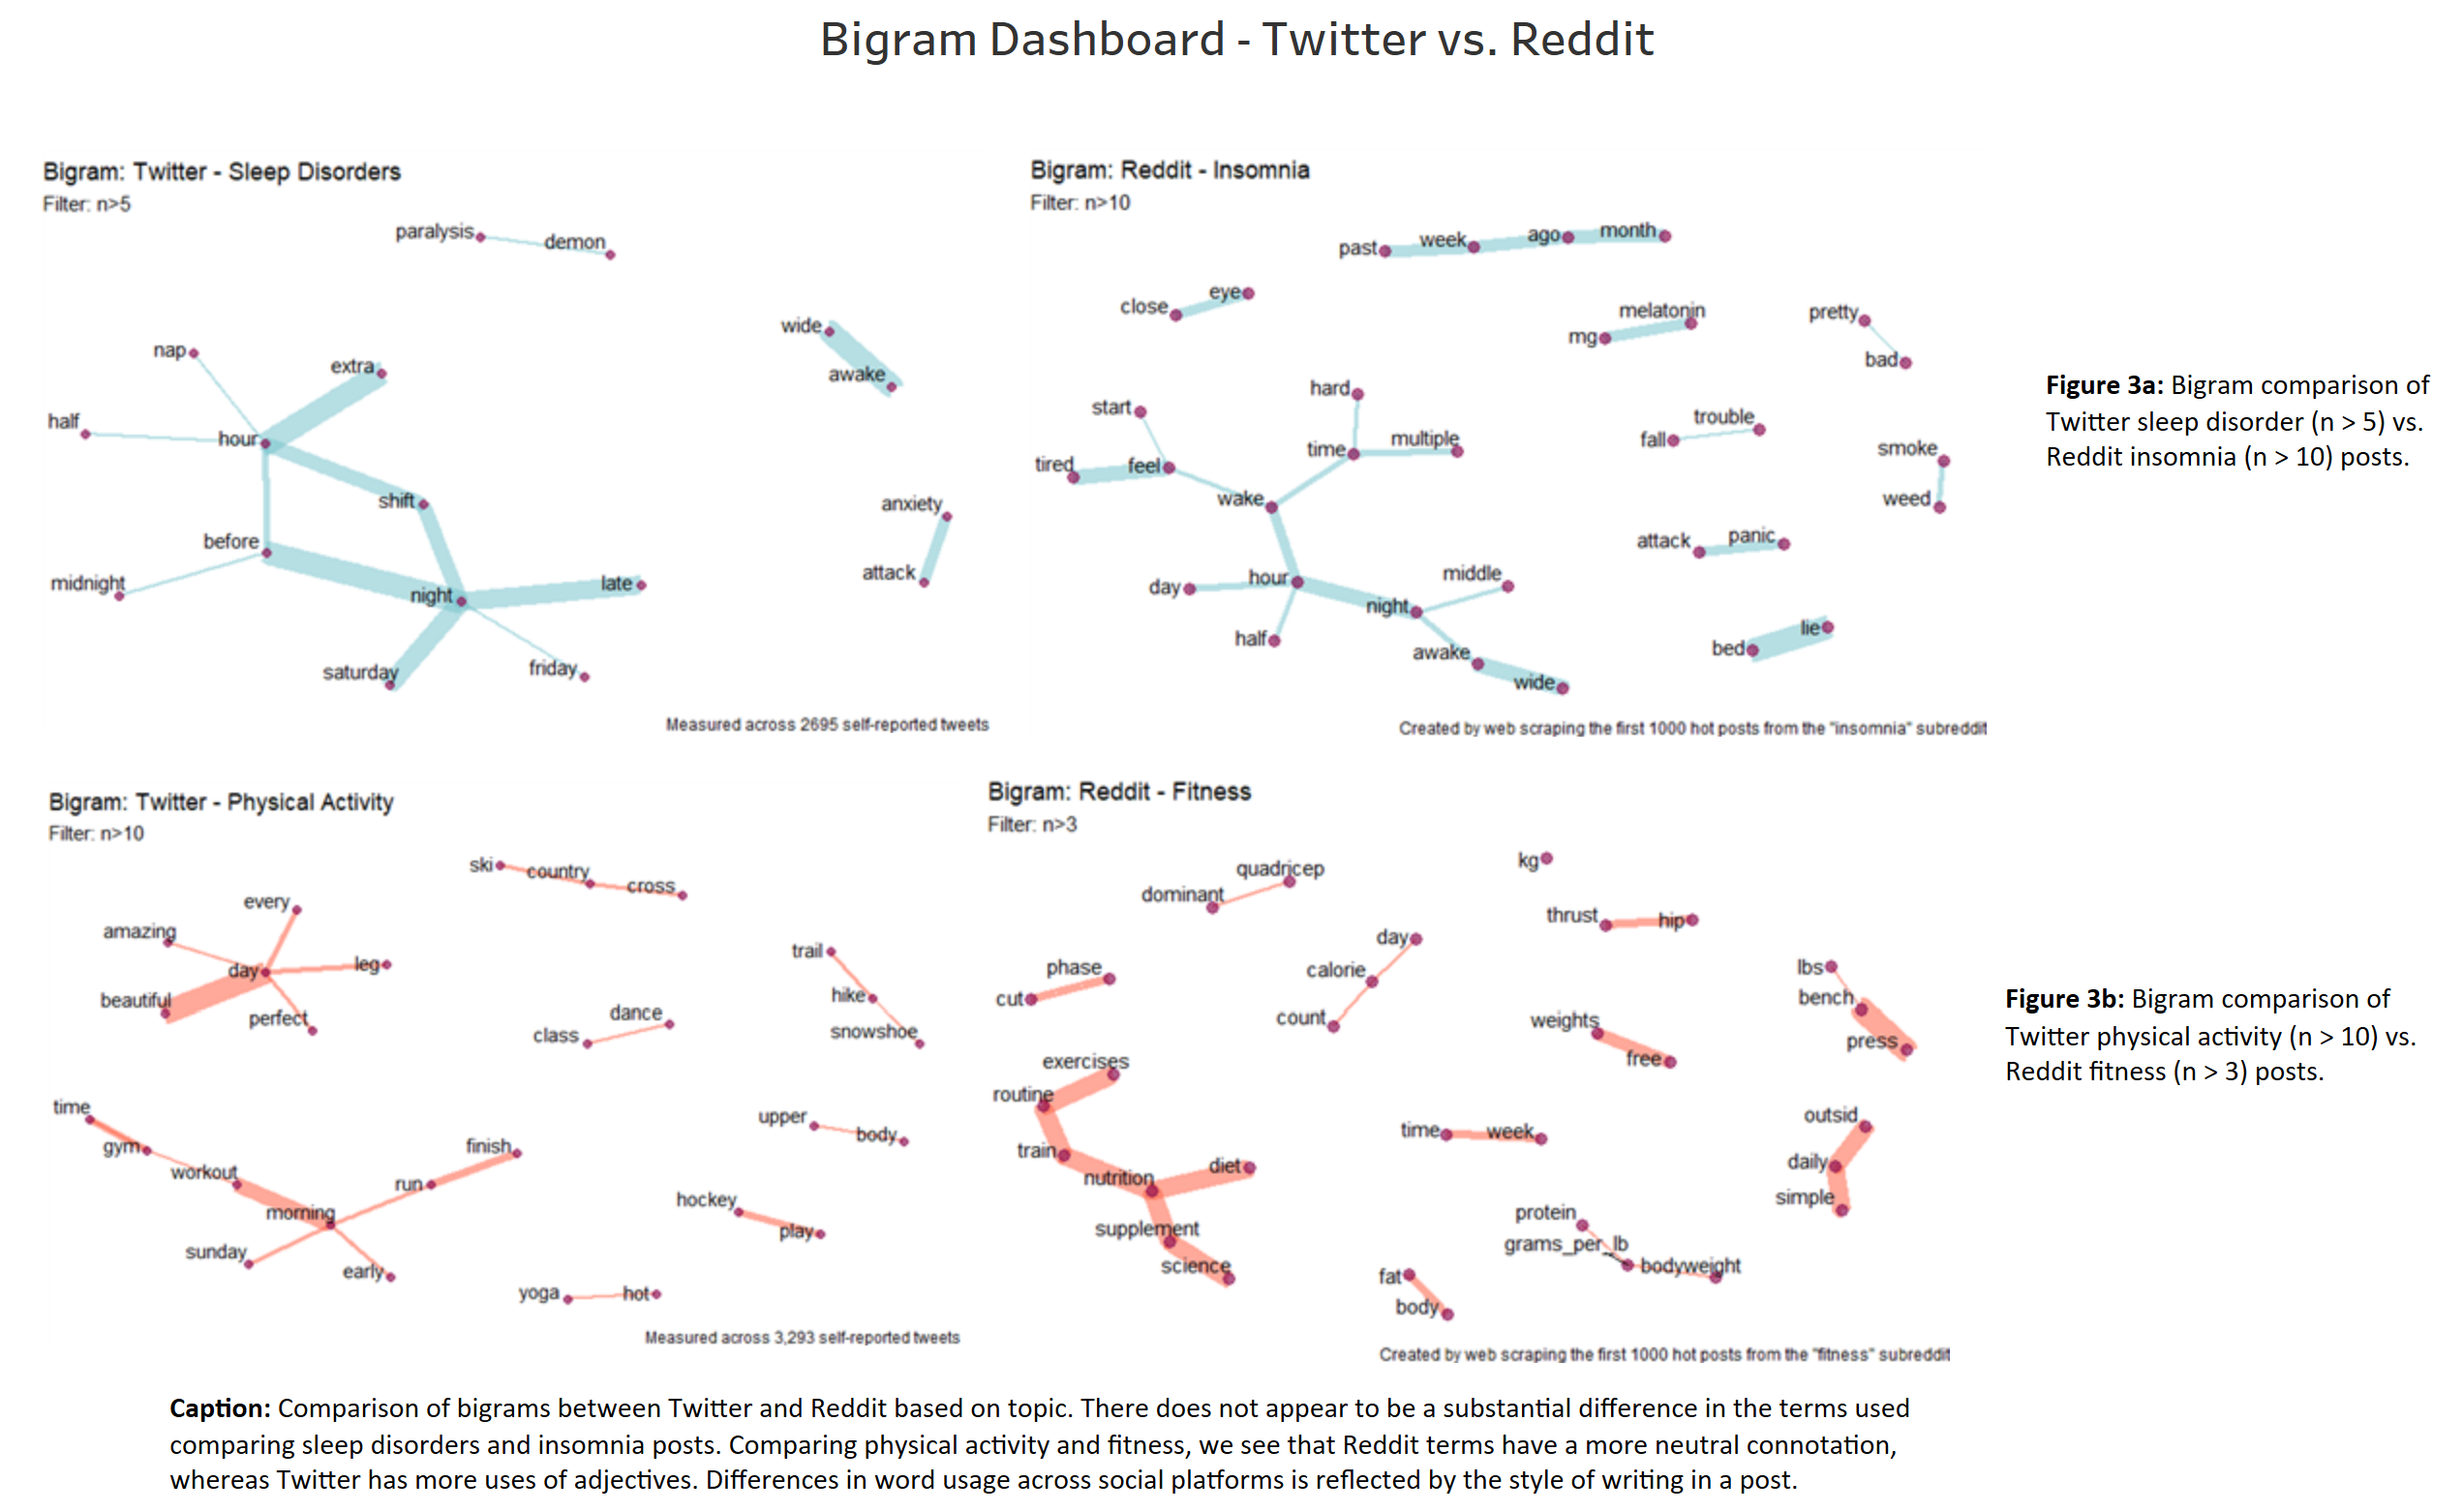

This screenshot's page, from the dashboard's own definition file:
{"tool":"tableau","page":{"name":"Bigram Dashboard","canvas":[1300,800],"ordinal":0},"visuals":[{"type":"title","box":[8,8,1284,41]},{"type":"image","param":"Image/Twitter_Sleep_Bigram2.png","box":[82,81,440,300]},{"type":"image","param":"Image/Reddit_Insomnia_Bigram.png","box":[559,81,458,292]},{"type":"text","box":[1045,104,213,235]},{"type":"image","param":"Image/Reddit_Fitness_Bigram.png","box":[562,412,456,306]},{"type":"image","param":"Image/Twitter_Phys_Bigram2.png","box":[81,413,439,304]},{"type":"text","box":[1044,441,230,195]},{"type":"text","box":[172,725,871,61]}]}

Visuals, with their boxes in screenshot pixels (x1, y1, x2, y2), scaled from the page's 1300x800 canvas onto the 2463x1512 screenshot:
title: [x1=15, y1=15, x2=2448, y2=93]
image: [x1=155, y1=153, x2=989, y2=720]
image: [x1=1059, y1=153, x2=1927, y2=705]
text: [x1=1980, y1=197, x2=2384, y2=641]
image: [x1=1065, y1=778, x2=1929, y2=1357]
image: [x1=154, y1=780, x2=986, y2=1355]
text: [x1=1978, y1=833, x2=2414, y2=1202]
text: [x1=326, y1=1371, x2=1976, y2=1486]
